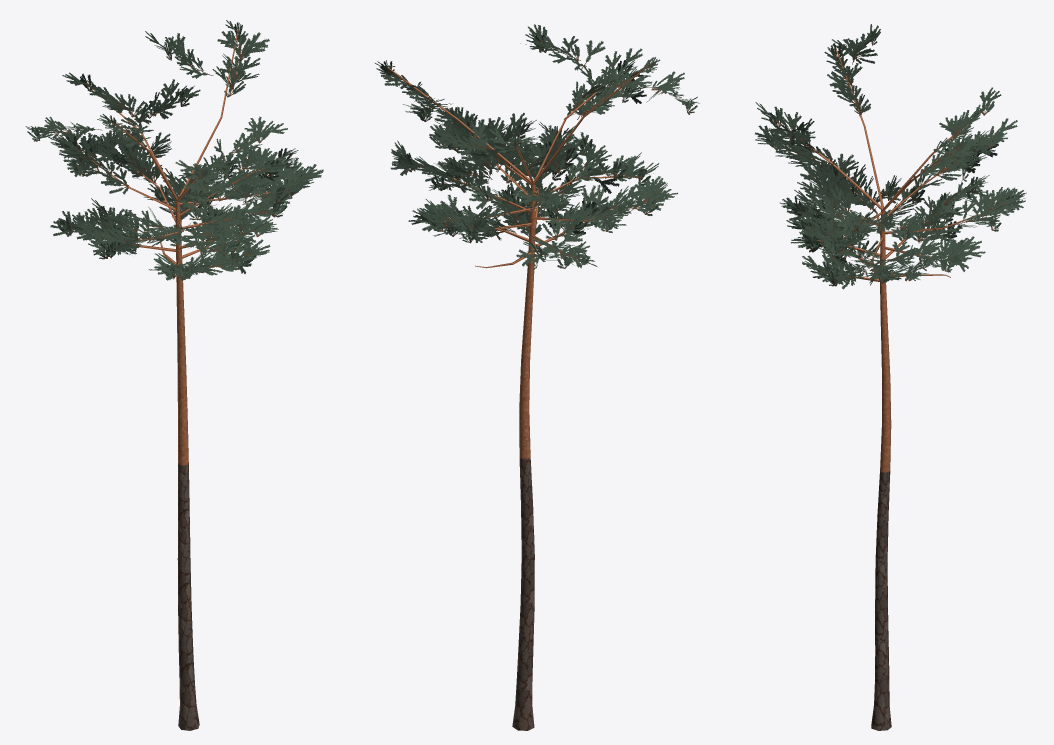
File: pine_c_LOD1.fbx
3 renders of one model, left to right at view 1: azimuth 30°, elevation 25°; view 2: azimuth 150°, elevation 25°; view 3: azimuth 270°, elevation 25°, orthographic. The views are drawn at different scales.
Parts seen in each view (by area): view 1: Pine_C_LOD1_Foliage, Pine_C_LOD1_Bark; view 2: Pine_C_LOD1_Foliage, Pine_C_LOD1_Bark; view 3: Pine_C_LOD1_Foliage, Pine_C_LOD1_Bark.
Boxes of the visible parts, box(x1,y1,x2,y2) form: Pine_C_LOD1_Foliage: box(25, 20, 323, 280); Pine_C_LOD1_Bark: box(72, 29, 287, 730); Pine_C_LOD1_Foliage: box(375, 24, 699, 269); Pine_C_LOD1_Bark: box(387, 62, 651, 730); Pine_C_LOD1_Foliage: box(755, 24, 1026, 289); Pine_C_LOD1_Bark: box(776, 49, 1003, 730).
Size of the model in its own units: 11.09 by 22.47 by 9.38.
2 materials, 2 textured.
